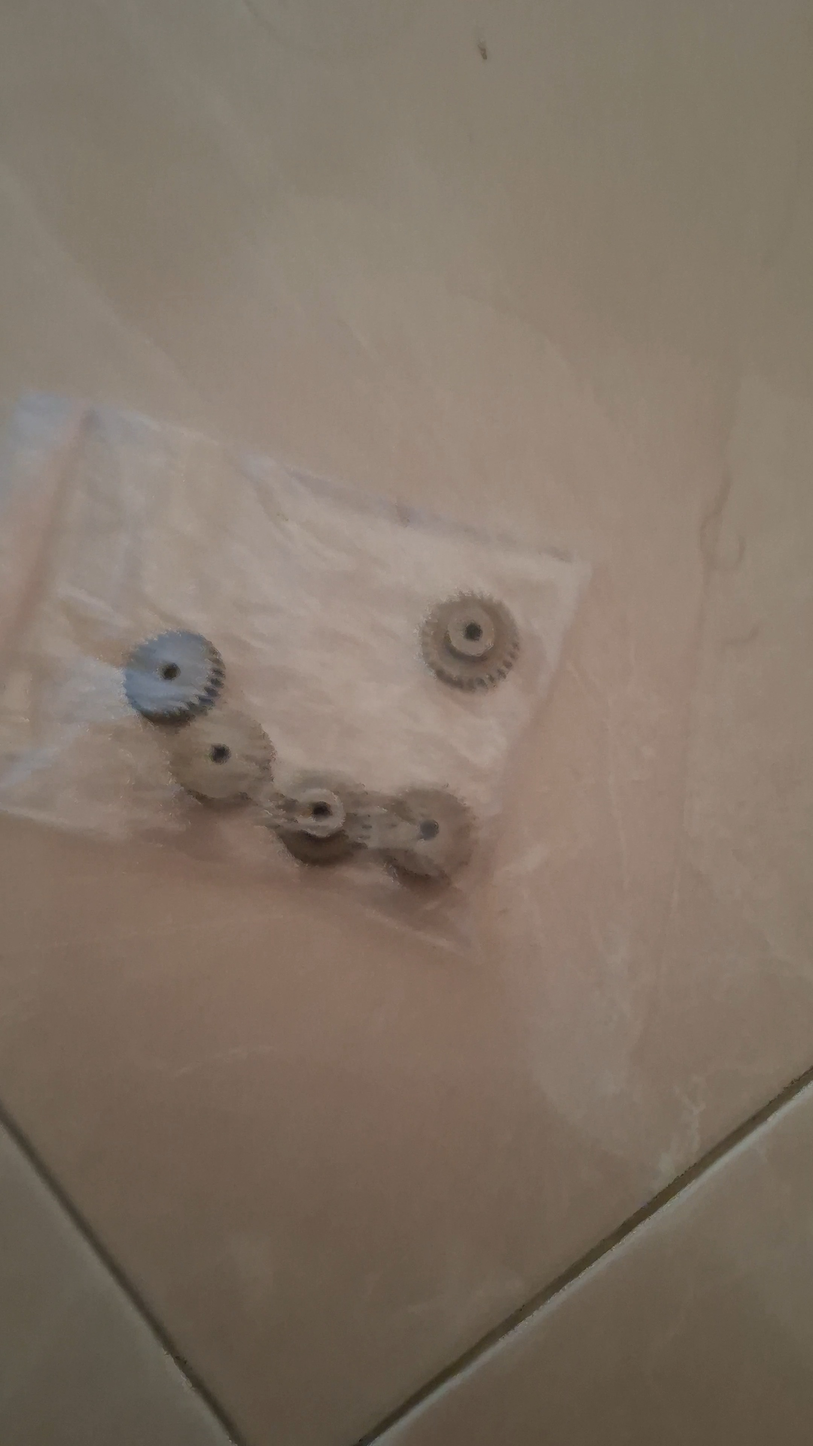spur gear: (169, 708, 275, 801), (262, 772, 365, 864), (421, 594, 519, 689), (124, 630, 223, 722), (384, 787, 473, 880)
